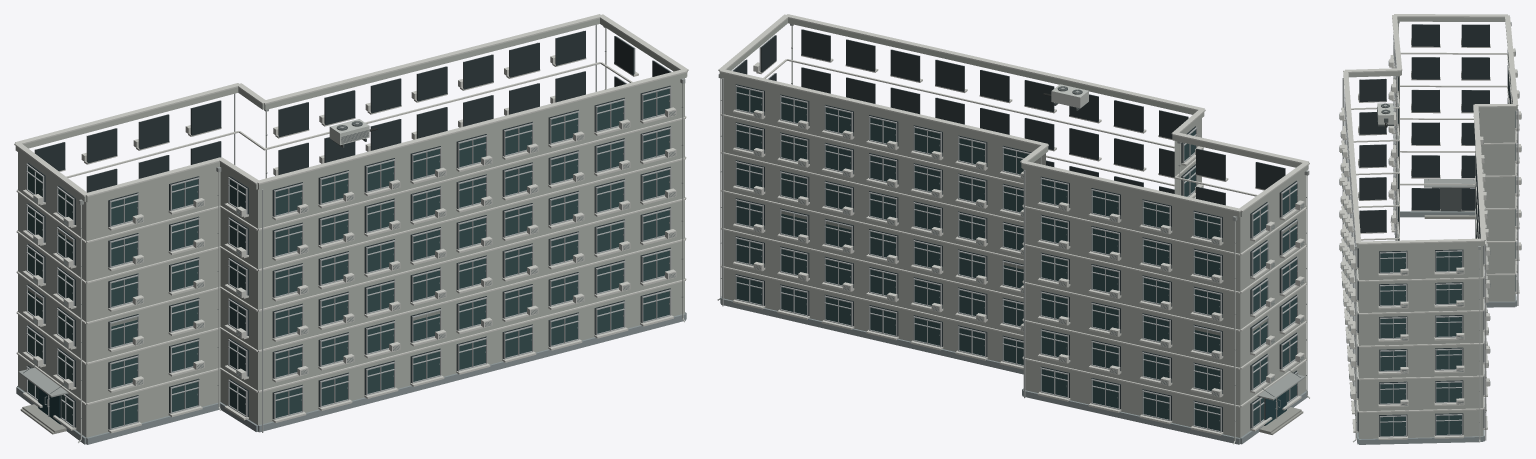
The model's file is osm_way_223859813.glb.
3 renders of one model, left to right at view 1: azimuth 30°, elevation 25°; view 2: azimuth 150°, elevation 25°; view 3: azimuth 270°, elevation 25°, orthographic. The views are drawn at different scales.
Visible parts, largest first — view 1: Windows and facade details | 11, Architecture | 11, Roof services | 11, EXTERIOR::osm_way_223859813::rainwater and roof service deta, EXTERIOR::osm_way_223859813::inferred entry doors canopy and; view 2: Windows and facade details | 11, Architecture | 11, Roof services | 11, EXTERIOR::osm_way_223859813::rainwater and roof service deta, EXTERIOR::osm_way_223859813::inferred entry doors canopy and; view 3: Windows and facade details | 11, Architecture | 11, Roof services | 11, EXTERIOR::osm_way_223859813::rainwater and roof service deta, EXTERIOR::osm_way_223859813::inferred entry doors canopy and.
Boxes of the visible parts, left/top/right/bottom form: Windows and facade details | 11: left=22, top=24, right=676, bottom=433; Architecture | 11: left=15, top=18, right=687, bottom=444; Roof services | 11: left=14, top=14, right=688, bottom=196; EXTERIOR::osm_way_223859813::rainwater and roof service deta: left=78, top=26, right=685, bottom=442; EXTERIOR::osm_way_223859813::inferred entry doors canopy and: left=18, top=365, right=68, bottom=434; Windows and facade details | 11: left=722, top=29, right=1304, bottom=435; Architecture | 11: left=719, top=18, right=1308, bottom=444; Roof services | 11: left=718, top=14, right=1309, bottom=212; EXTERIOR::osm_way_223859813::rainwater and roof service deta: left=717, top=24, right=1309, bottom=444; EXTERIOR::osm_way_223859813::inferred entry doors canopy and: left=1257, top=369, right=1305, bottom=434; Windows and facade details | 11: left=1339, top=24, right=1521, bottom=440; Architecture | 11: left=1348, top=17, right=1517, bottom=444; Roof services | 11: left=1343, top=14, right=1518, bottom=244; EXTERIOR::osm_way_223859813::rainwater and roof service deta: left=1353, top=21, right=1511, bottom=442; EXTERIOR::osm_way_223859813::inferred entry doors canopy and: left=1424, top=179, right=1475, bottom=219.
Size of the model in its own units: 49.52 by 20.58 by 16.16.
